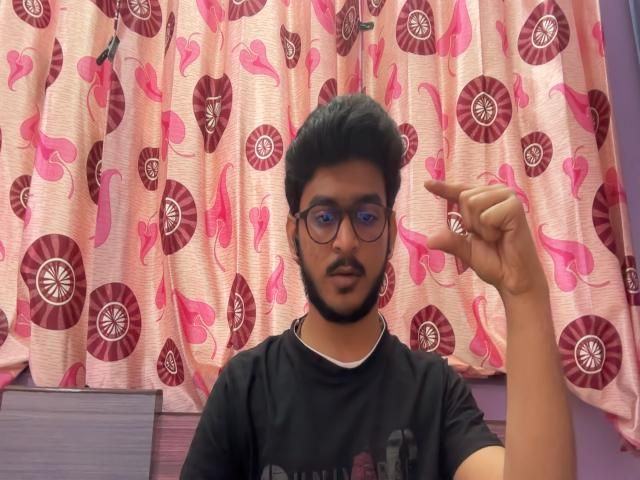No: (420, 164, 564, 333)
